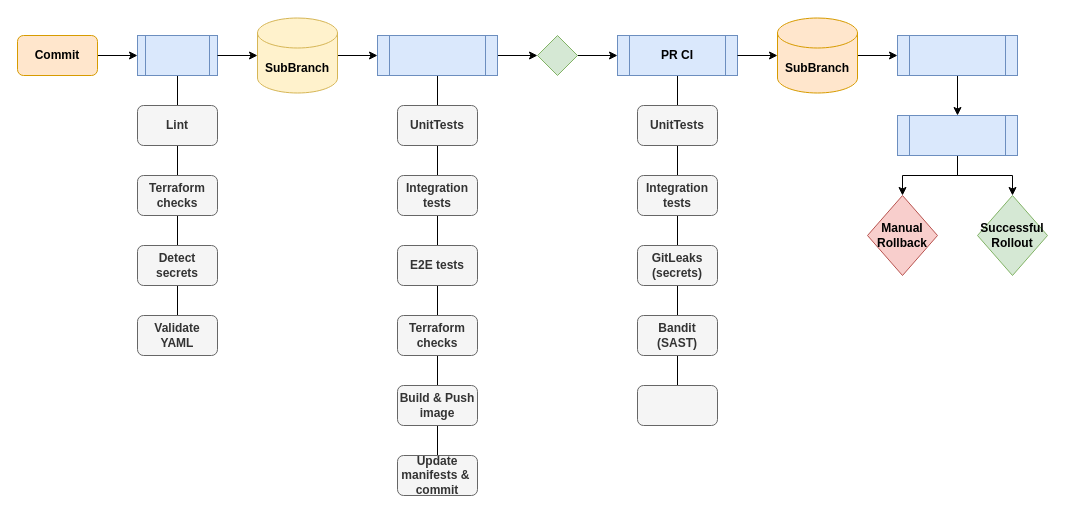
Image size: 1065x514. Some labels were removed from this diagram. Each missing label, with the centre of its shape:
"ArgoCD sync" goes at point 957,55.
"PostDeployment smoke tests" goes at point 957,135.
"PR" goes at point 557,55.
"PreCommit" goes at point 177,55.
"SubBranchCI" goes at point 437,55.
"Trivy (SCA)" goes at point 677,405.
